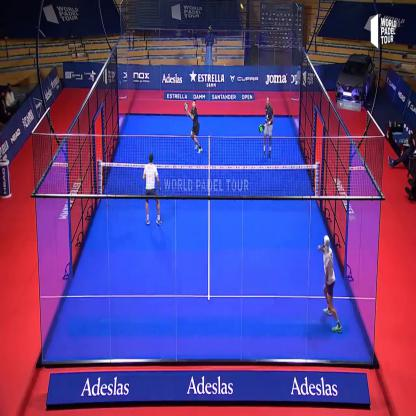ball: (238, 2, 246, 14)
